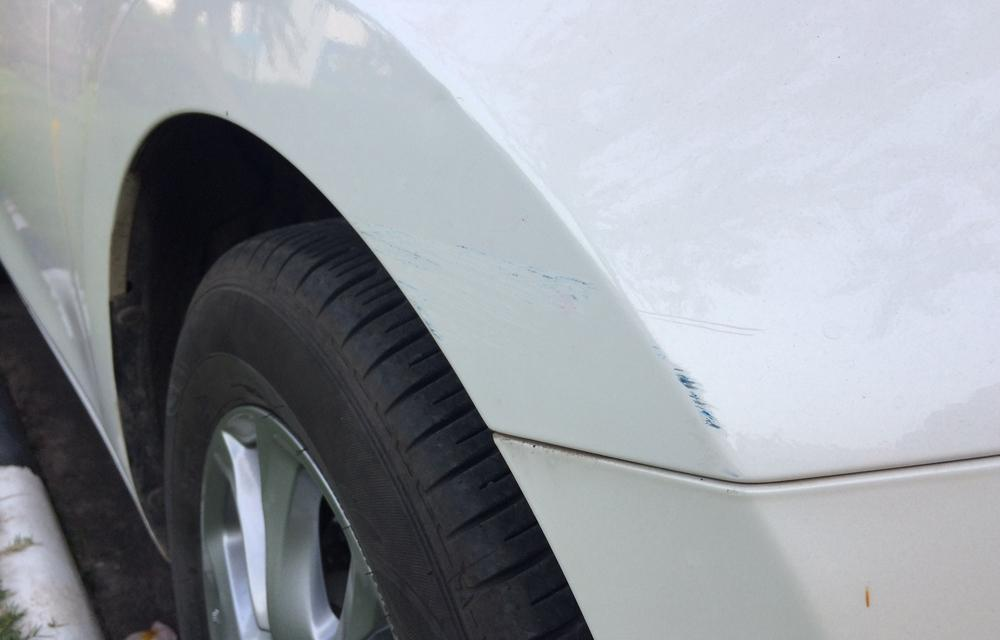scratch: (356, 213, 599, 361), (653, 344, 731, 460)
